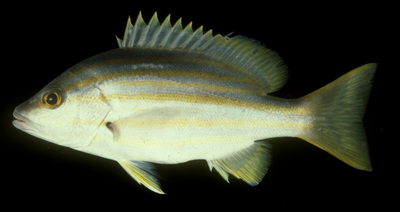fish: (12, 11, 377, 194)
